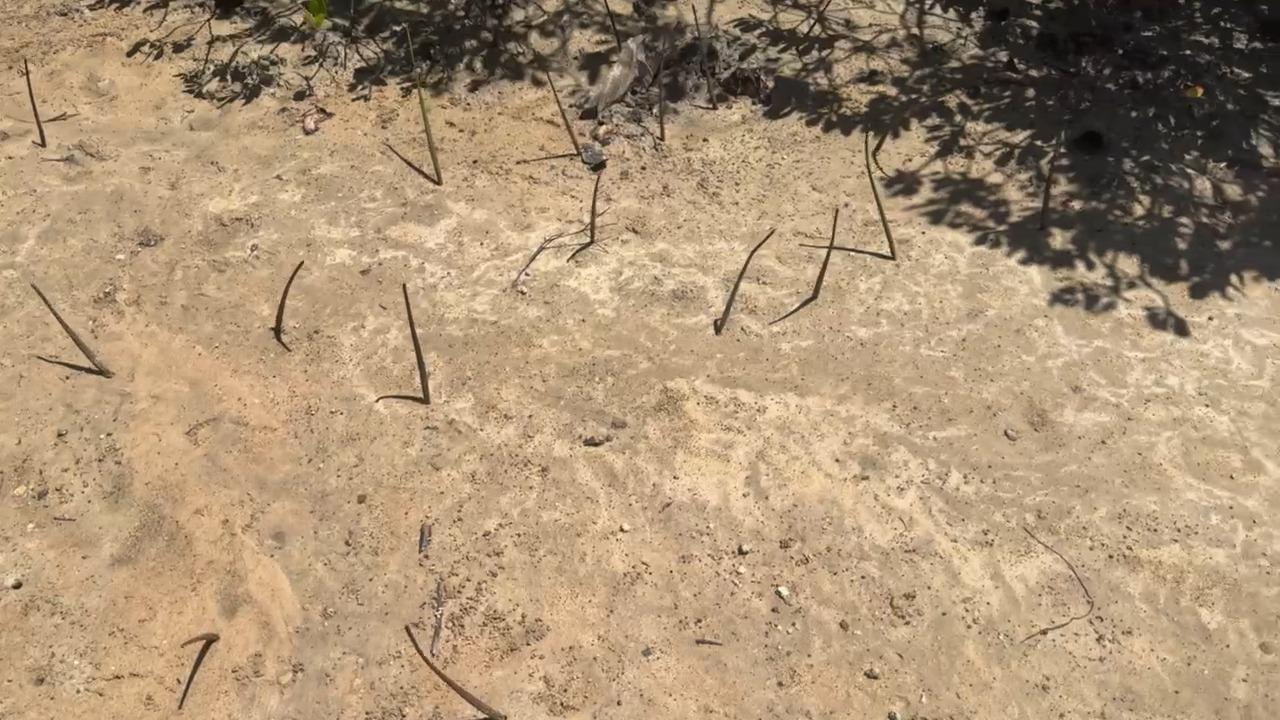Tree: (403, 622, 507, 720), (29, 279, 118, 379), (718, 226, 779, 335), (404, 23, 445, 185), (535, 50, 583, 156), (863, 127, 898, 259), (401, 282, 432, 405), (689, 1, 720, 111), (811, 208, 840, 300), (274, 259, 305, 342), (23, 56, 47, 148), (1040, 132, 1058, 231), (589, 163, 603, 244), (603, 0, 622, 53), (657, 36, 666, 141), (179, 630, 220, 649)
